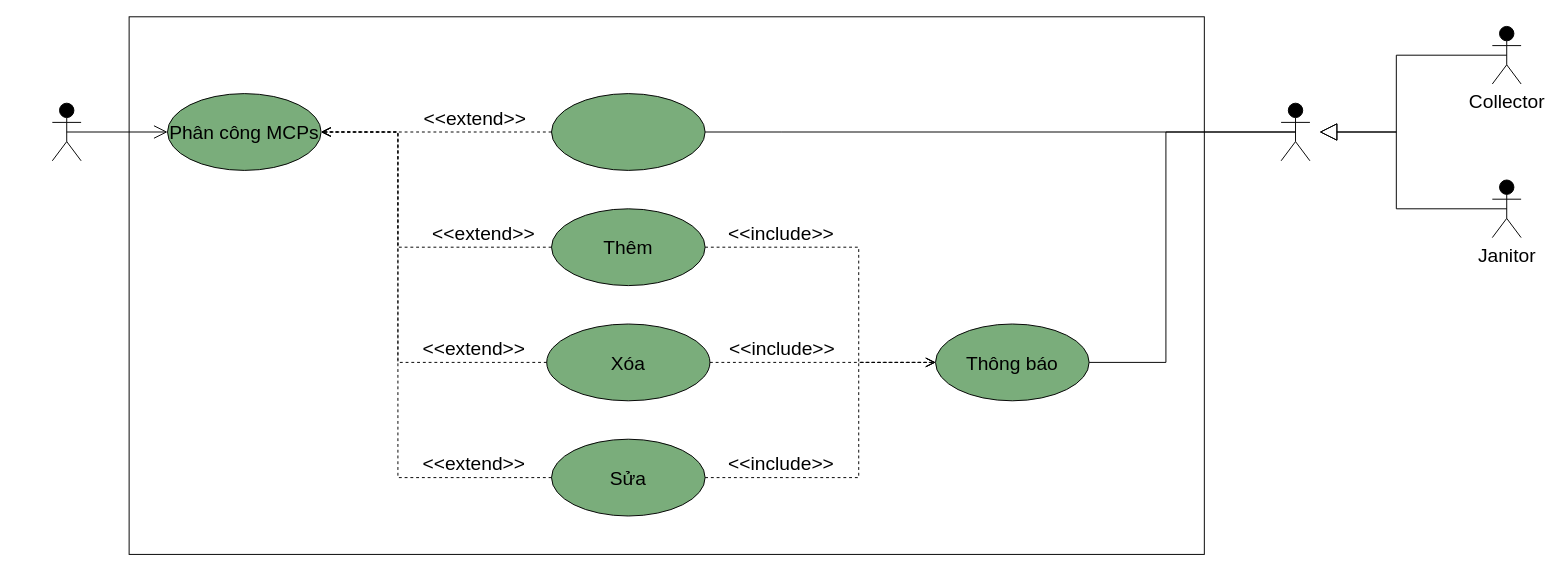
Image size: 1561x571. Some labels were removed from this diagram. Each missing label, with the box of its shape:
Back officer: (51, 102, 81, 161)
Collecting team: (1280, 102, 1310, 161)
Xem chi tiết công việc: (551, 93, 705, 170)
